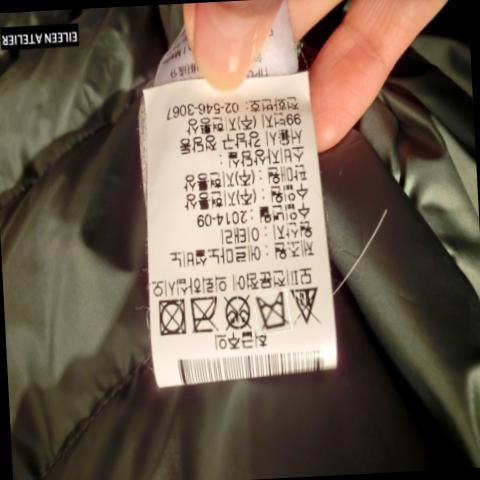DN_dry: (222, 292, 255, 331)
DN_iron: (188, 295, 221, 334)
DN_tumble_dry: (157, 298, 189, 337)
DN_wash: (259, 289, 287, 333)
non_chlorine_bleach: (293, 283, 326, 327)
